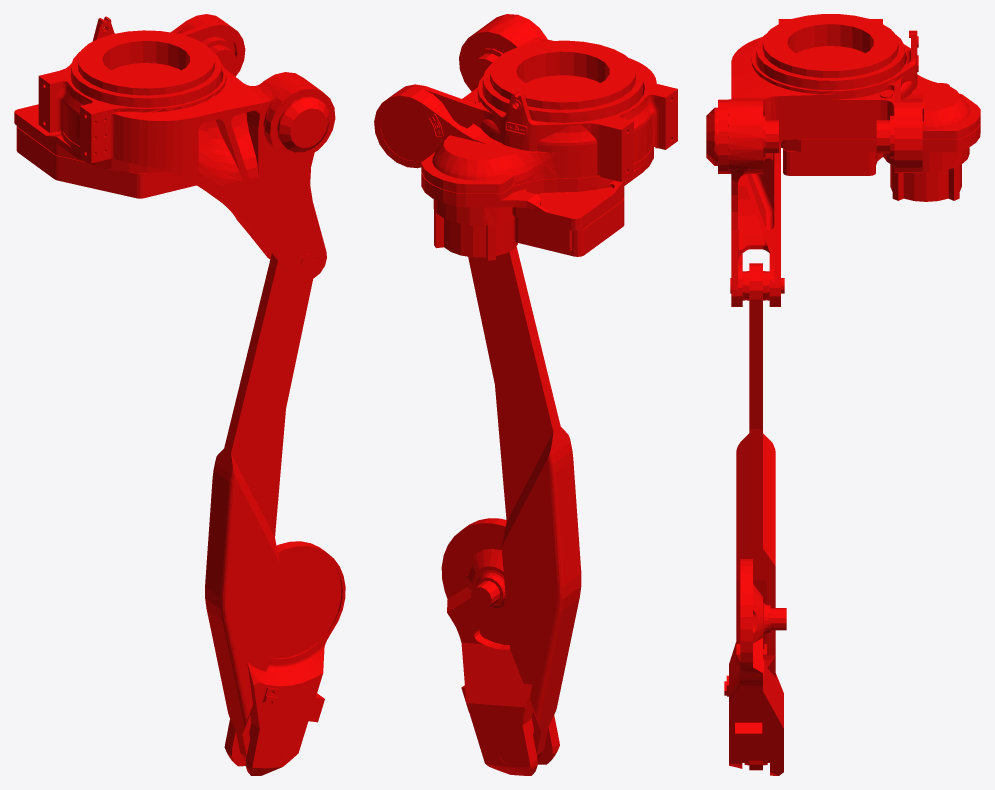
3 renders of one model, left to right at view 1: azimuth 30°, elevation 25°; view 2: azimuth 150°, elevation 25°; view 3: azimuth 270°, elevation 25°, orthographic. The views are drawn at different scales.
Parts seen in each view (by area): view 1: link_3; view 2: link_3; view 3: link_3.
Boxes of the visible parts, x1,y1,x2,y2 form: link_3: (14,14,345,775); link_3: (374,14,677,775); link_3: (706,14,980,775).
Bounding box in the file's own units: 0.5911 × 1.71 × 0.6053.
